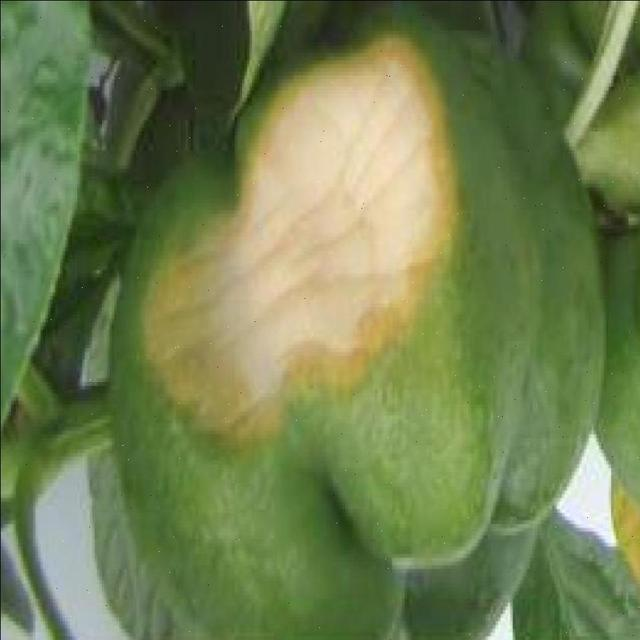Sunscald Fruit: (87, 15, 320, 301)
